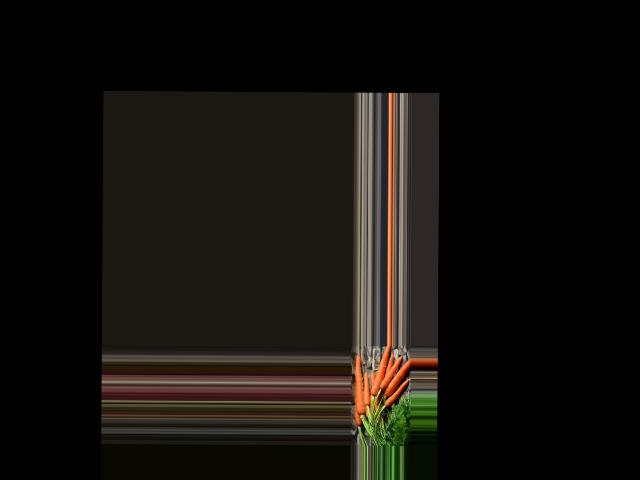carrot: (384, 381, 408, 408)
